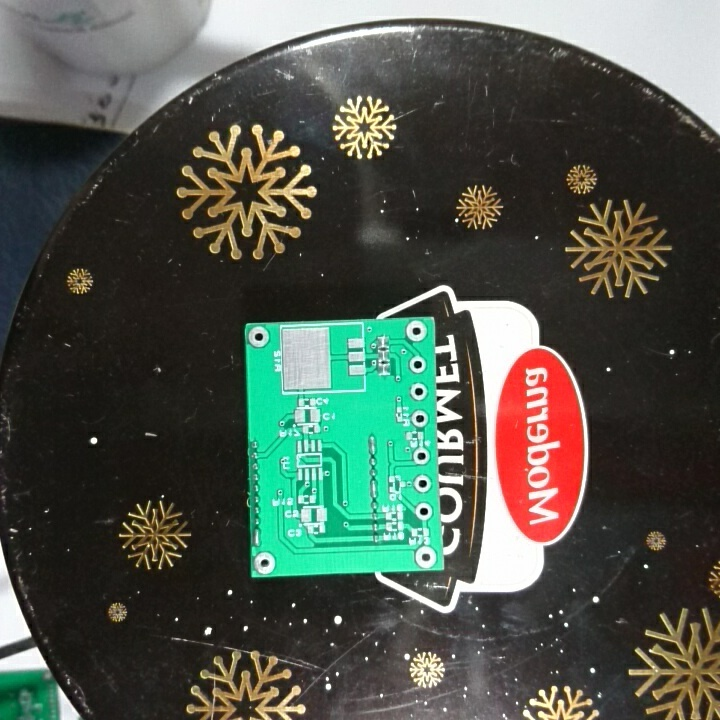F: (245, 324, 272, 351), (413, 543, 439, 569), (251, 550, 278, 575), (403, 319, 429, 344), (411, 472, 434, 496), (407, 353, 429, 375), (408, 380, 429, 402), (408, 408, 430, 429), (411, 445, 431, 468), (413, 501, 434, 520)
P: (365, 434, 380, 458), (367, 476, 380, 500), (250, 527, 263, 549)
